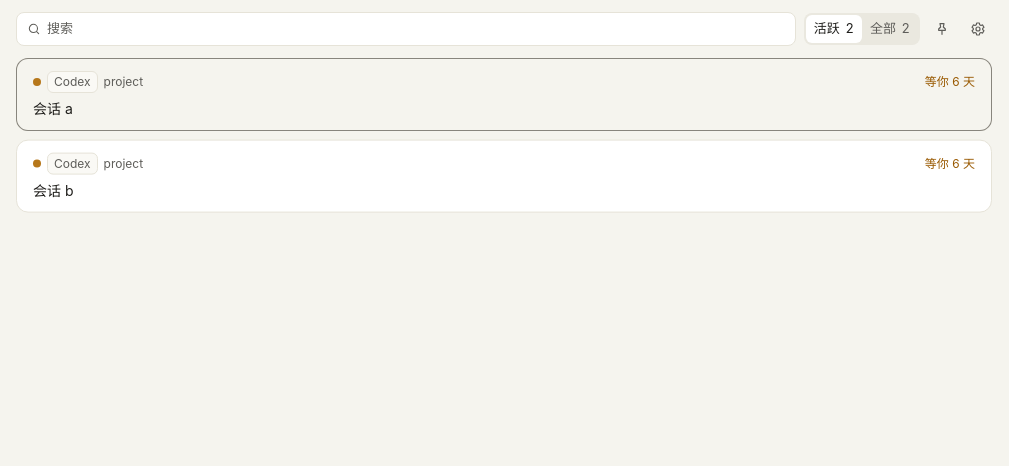
T13 R2 explicit navigation keeps Active and matching search when the target is visible
Type "会话 b" into the field named "搜索完整会话和想法".
click(416, 29); type("会话 b")  # box [47, 19, 785, 38]
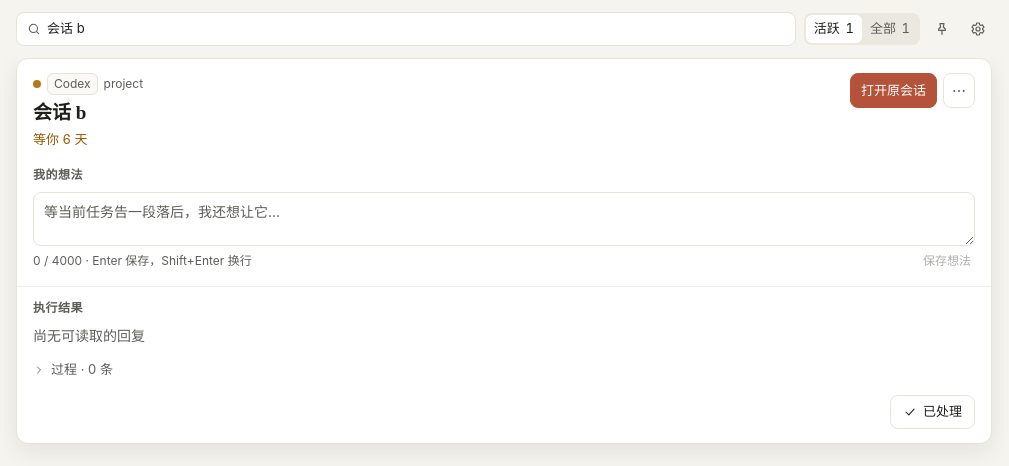
Expected: the button with class "session-toggle" is expanded, [17, 58, 844, 162]
